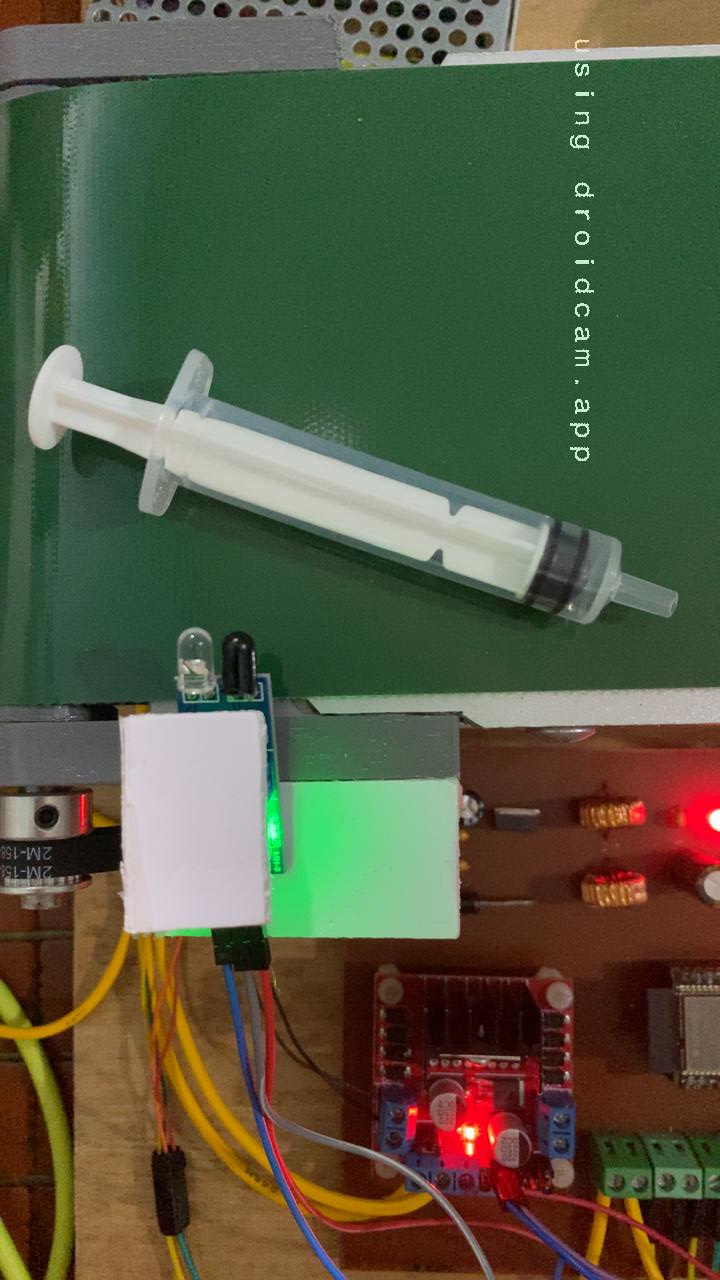syringe: (20, 337, 683, 632)
